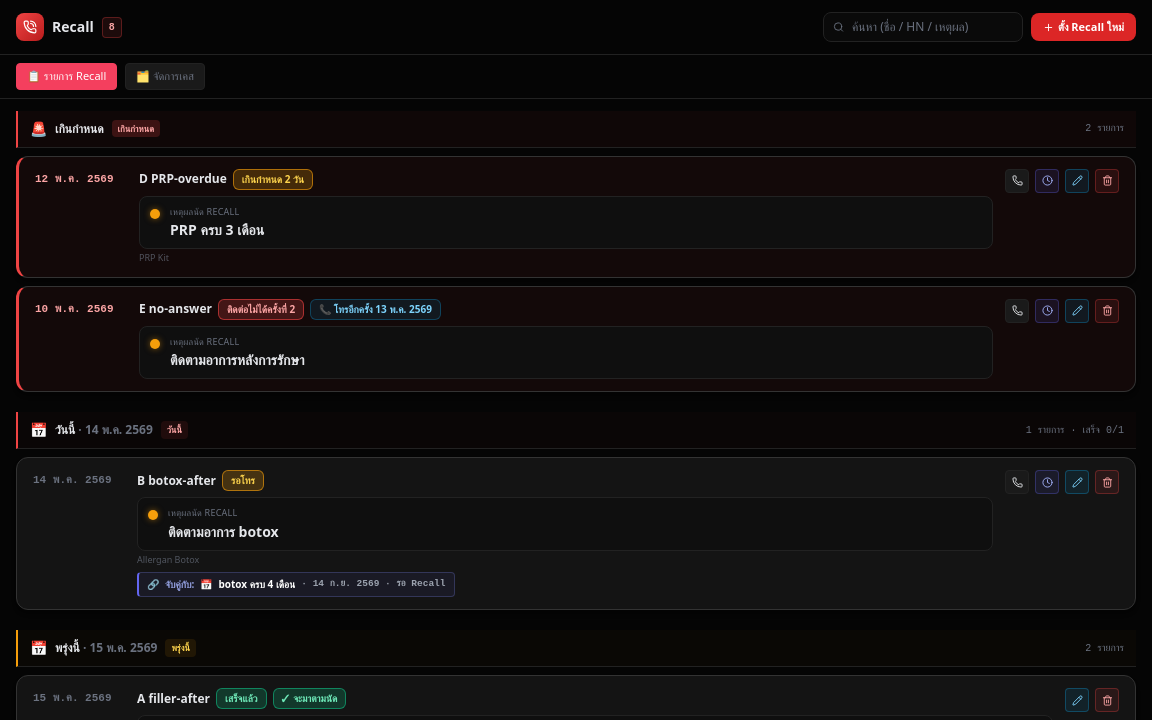
Phase 29 · F7 R7 no-answer count 2 — escalation rule (next save → manual review) › F7.2 outcome modal opened for R7 shows escalation warning when selecting no-answer
This screenshot has width=1152, height=720.
Click the button with test id "recall-record-R7". click: (1017, 310)
box: [1005, 298, 1029, 322]
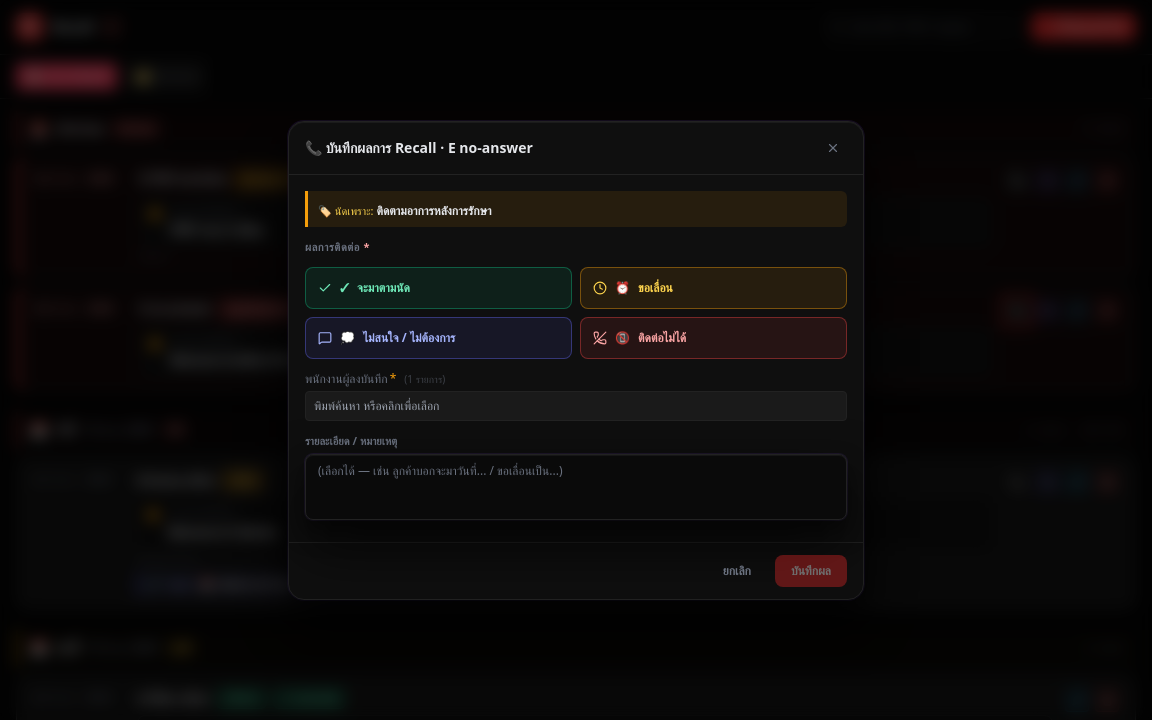
Click the button with test id "recall-outcome-card-no-answer". click: (662, 338)
box: [580, 317, 847, 359]
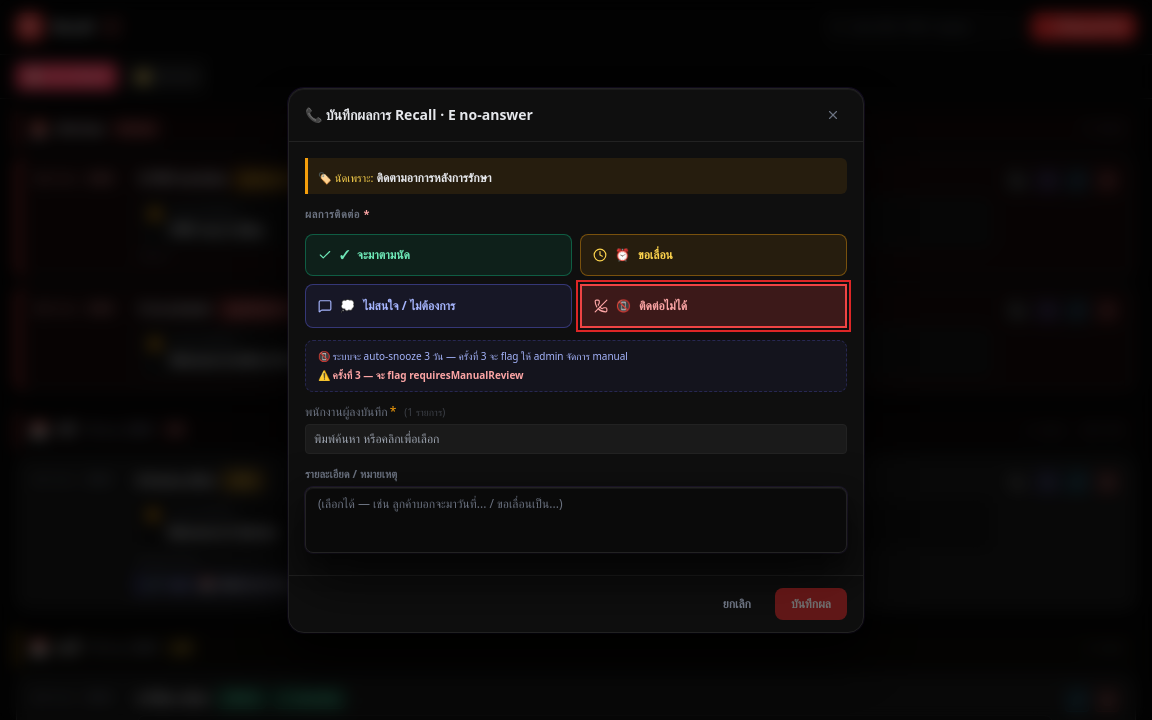
Expected: the text "⚠ ครั้งที่ 3 — จะ flag requiresManualReview" is shown, [318, 368, 524, 382]
